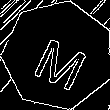M_NE: (25, 23, 90, 88)
